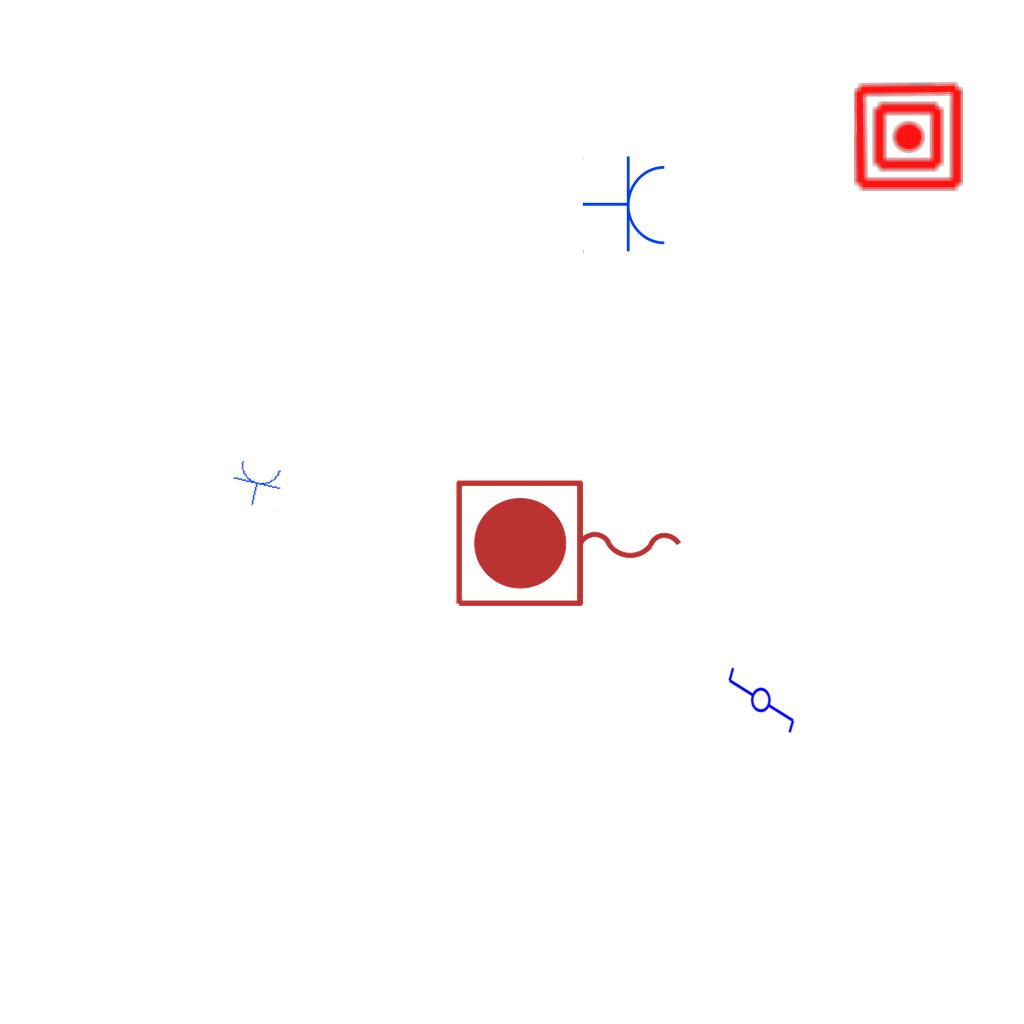NAM-Nichtautomatischer_Melder: (852, 80, 965, 193)
Schukosteckdose_einfach: (582, 155, 669, 255), (227, 457, 287, 512)
Wechselschalter: (726, 657, 798, 735)
Zugtaster: (448, 473, 692, 617)
